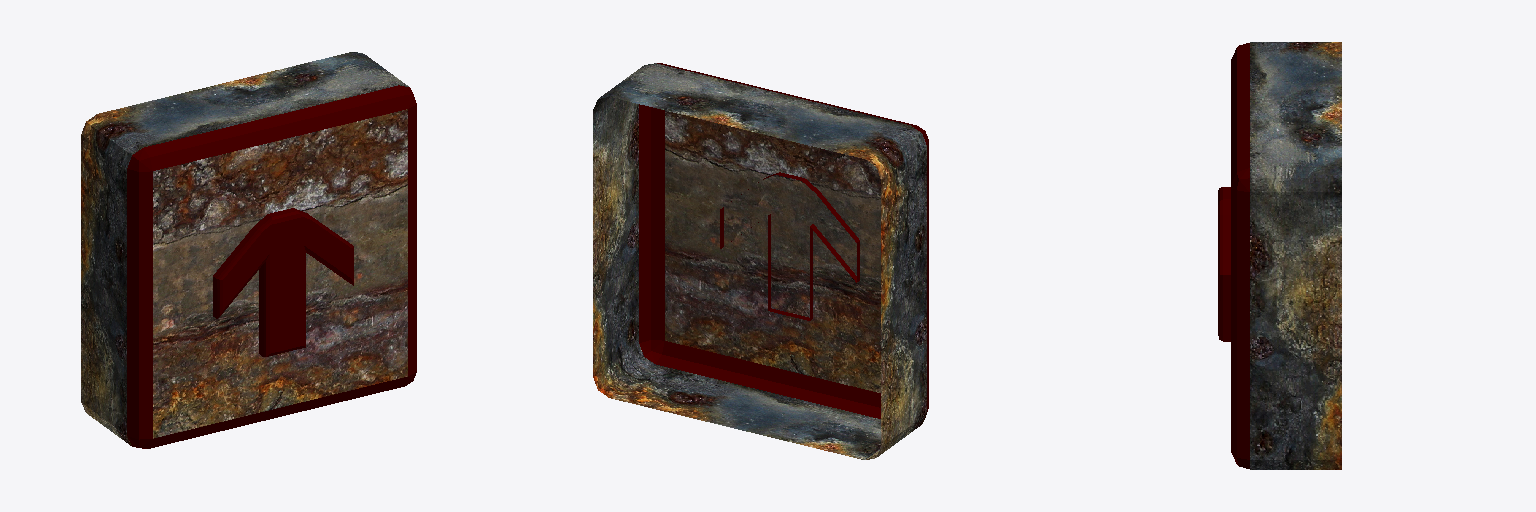
The picture shows the model from 3 angles: view 1: azimuth 30°, elevation 25°; view 2: azimuth 150°, elevation 25°; view 3: azimuth 270°, elevation 25°; orthographic projection.
Visible parts, largest first — view 1: Button; view 2: Button; view 3: Button.
Boxes of the visible parts, x1=… form: Button: x1=81, y1=52, x2=416, y2=448; Button: x1=593, y1=63, x2=928, y2=459; Button: x1=1218, y1=42, x2=1341, y2=469.
Size of the model in its own units: 0.06 by 0.06 by 0.0223.
Materials: 2 (1 with a texture image).